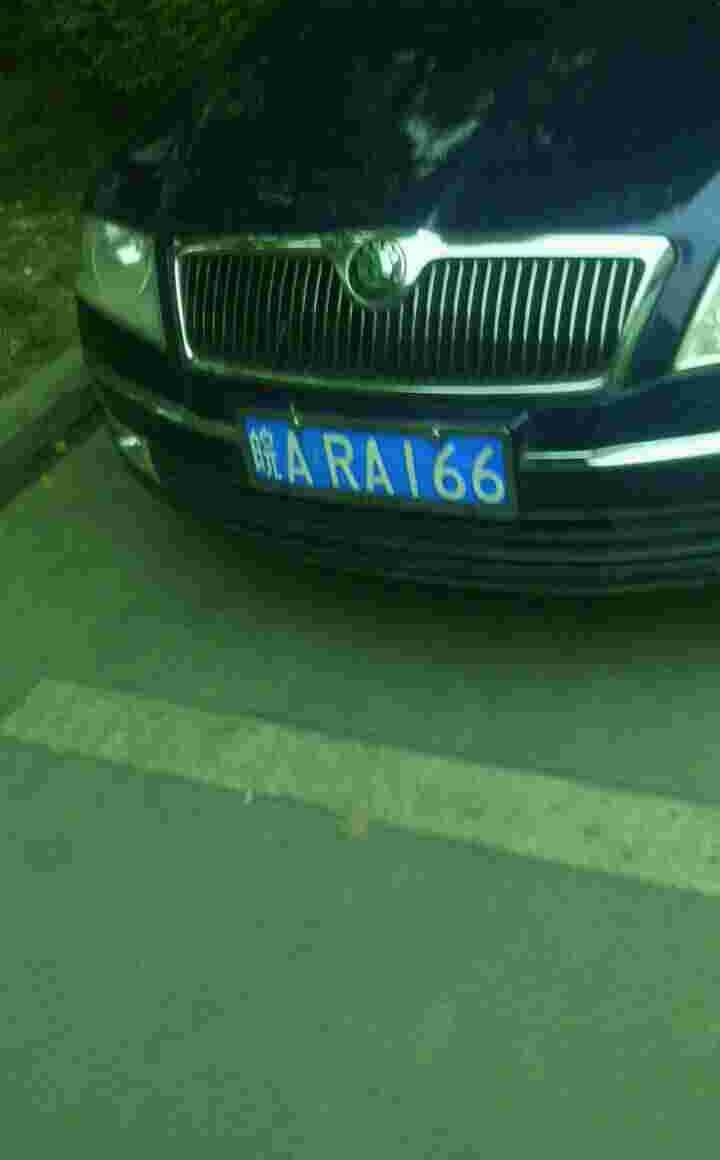plate: (232, 411, 519, 514)
